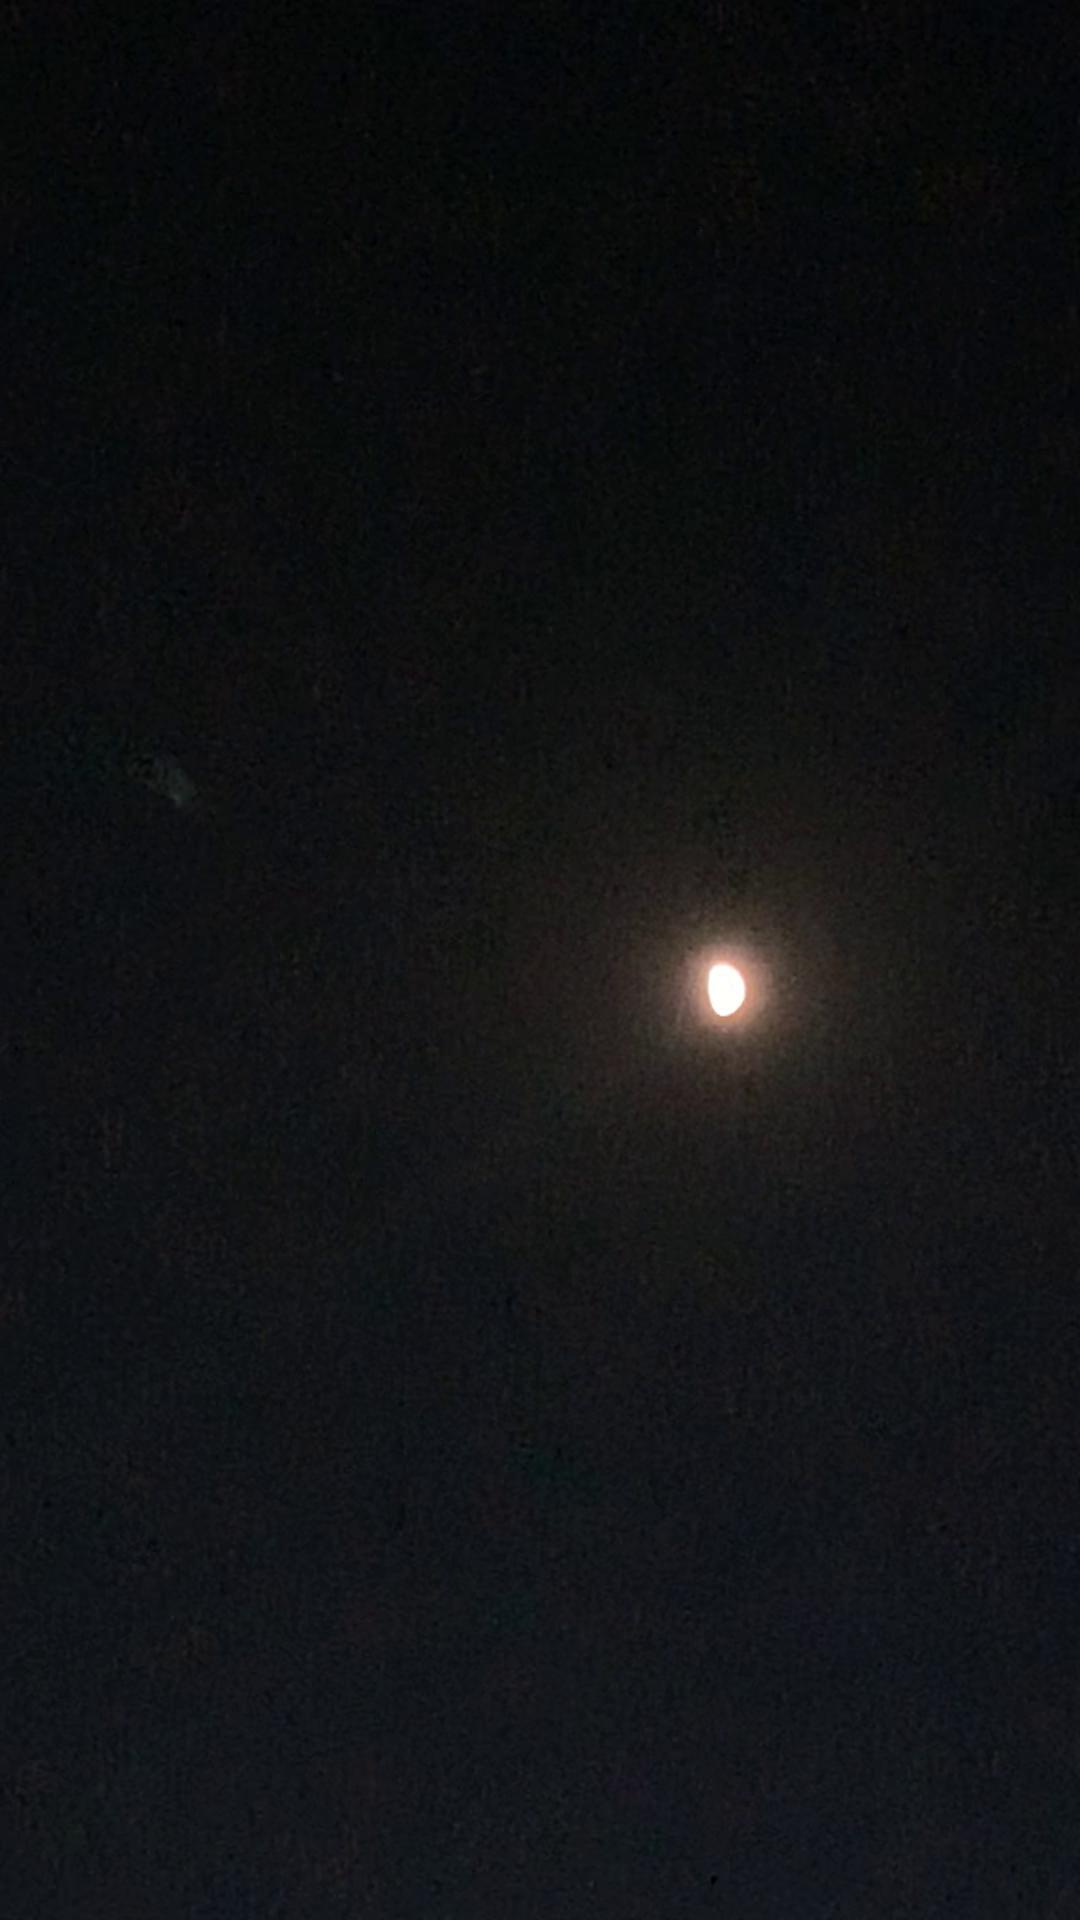moon: (688, 939, 778, 1021)
